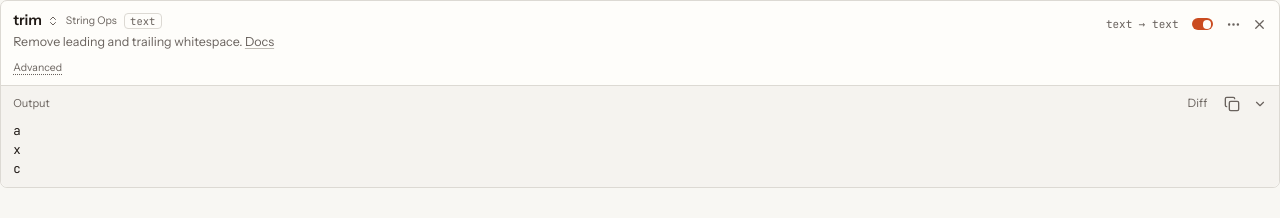
Test case: StepCard › toggles a diff view of the step input vs. its preview
The image size is (1280, 218).
What coordinates should you click on to do the following:
click the button "Diff"
I would click on:
 (1197, 104)
Its box is [1181,92,1214,114].
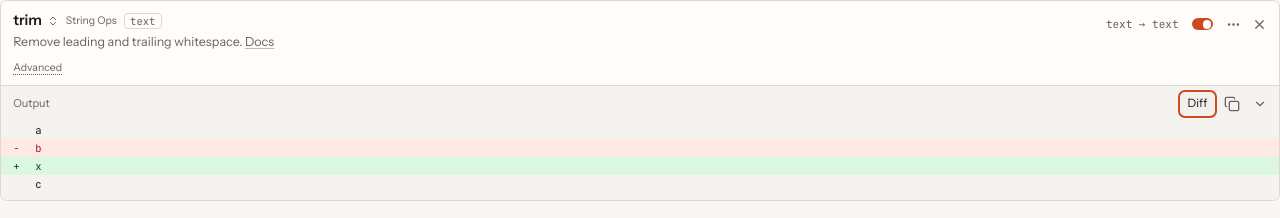
Expected: the element named "step diff" shows "- b", [1,118,1279,200]
Expected: the element named "step diff" shows "+ x", [1,118,1279,200]
